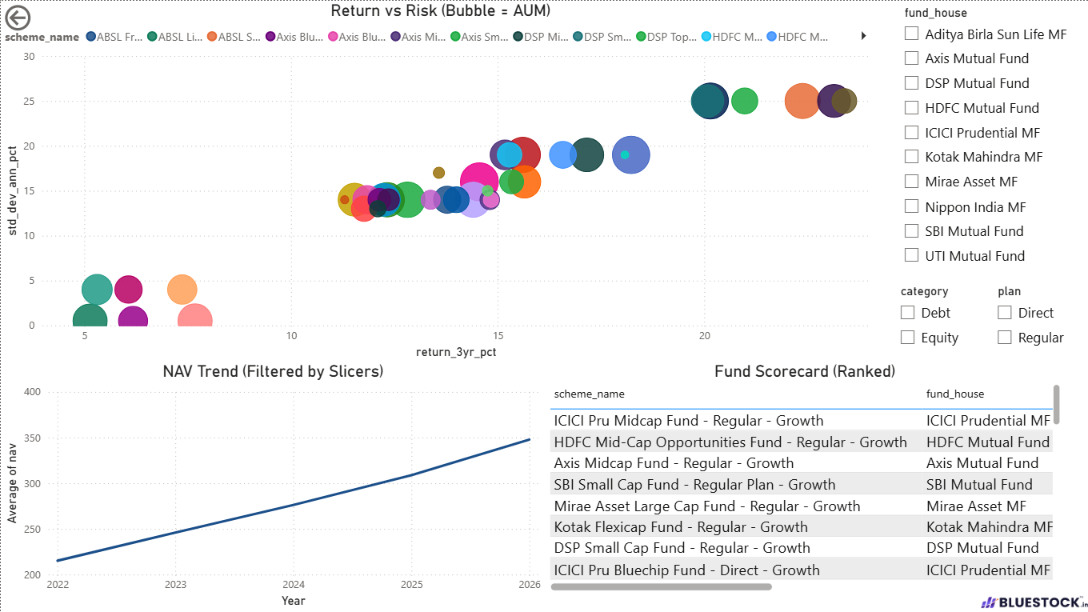

Layout of this report page (visuals, bound fields, positions):
{"tool":"powerbi","page":{"name":"Fund Performance","canvas":[1280,720],"ordinal":1},"visuals":[{"type":"tableEx","title":"Fund Scorecard (Ranked)","fields":{"Values":["fund_scorecard.scheme_name","fund_scorecard.fund_house","fund_scorecard.category","fund_scorecard.composite_score","fund_scorecard.overall_rank","fund_scorecard.cagr_3yr","fund_scorecard.sharpe_ratio","fund_scorecard.alpha_pct","fund_scorecard.expense_ratio_pct","fund_scorecard.max_drawdown_pct"]},"box":[640,424.3,611.4,274.3],"z":1},{"type":"lineChart","title":"NAV Trend (Filtered by Slicers)","fields":{"Category":["02_nav_history_cleaned.date.Variation.Date Hierarchy.Year","02_nav_history_cleaned.date.Variation.Date Hierarchy.Quarter","02_nav_history_cleaned.date.Variation.Date Hierarchy.Month","02_nav_history_cleaned.date.Variation.Date Hierarchy.Day"],"Y":["Avg(02_nav_history_cleaned.nav)"]},"box":[0,424.3,640,294.3],"z":2},{"type":"slicer","fields":{"Values":["01_fund_master_cleaned.fund_house"]},"box":[1050,0,220,322.9],"z":3},{"type":"slicer","fields":{"Values":["01_fund_master_cleaned.category"]},"box":[1046.2,328.8,110,96.2],"z":4},{"type":"slicer","fields":{"Values":["01_fund_master_cleaned.plan"]},"box":[1160,328.8,120,96.2],"z":5},{"type":"scatterChart","title":"Return vs Risk (Bubble = AUM)","fields":{"X":["07_scheme_performance_cleaned.return_3yr_pct"],"Y":["07_scheme_performance_cleaned.std_dev_ann_pct"],"Size":["Sum(07_scheme_performance_cleaned.aum_crore)"],"Series":["07_scheme_performance_cleaned.scheme_name"]},"box":[0,0,1034.3,425.7],"z":6},{"type":"actionButton","box":[0,0,100,40],"z":7},{"type":"image","box":[1152.9,695.7,127.1,24.3],"z":8}]}

Visuals, with their boxes in screenshot pixels (x1, y1, x2, y2), scaled from the page's 1280x720 canvas onto the 1088x612 screenshot:
"Fund Scorecard (Ranked)" tableEx: bbox=(544, 361, 1064, 594)
"NAV Trend (Filtered by Slicers)" lineChart: bbox=(0, 361, 544, 611)
slicer - 01_fund_master_cleaned.fund_house: bbox=(892, 0, 1080, 274)
slicer - 01_fund_master_cleaned.category: bbox=(889, 279, 983, 361)
slicer - 01_fund_master_cleaned.plan: bbox=(986, 279, 1087, 361)
"Return vs Risk (Bubble = AUM)" scatterChart: bbox=(0, 0, 879, 362)
actionButton: bbox=(0, 0, 85, 34)
image: bbox=(980, 591, 1087, 611)
